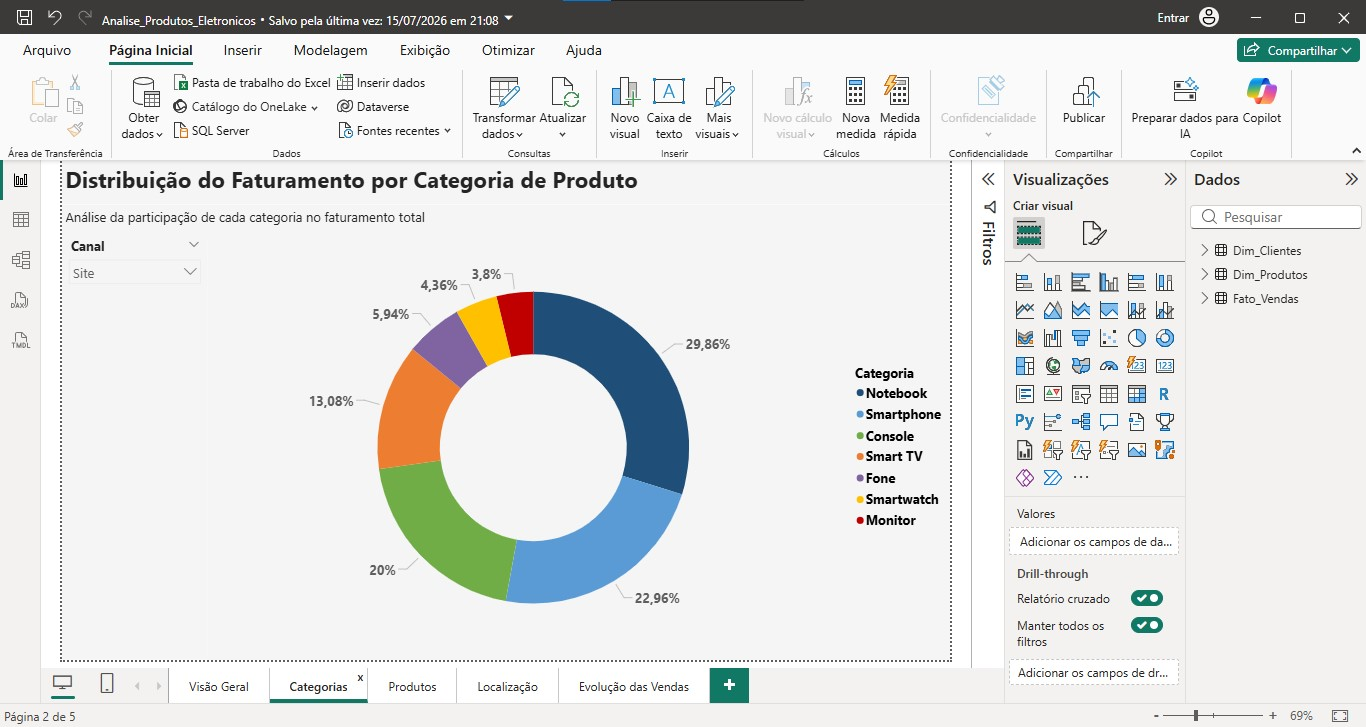

The page's visual inventory and layout, read from the dashboard file:
{"tool":"powerbi","page":{"name":"Categorias","canvas":[1280,720],"ordinal":1},"visuals":[{"type":"donutChart","fields":{"Category":["Dim_Produtos.Categoria"],"Y":["Sum(Fato_Vendas.Valor_Total)"]},"box":[210.3,108,649.4,469],"z":0},{"type":"slicer","fields":{"Values":["Fato_Vendas.Canal_Venda"]},"box":[0,108,210.3,125.3],"z":1000},{"type":"textbox","box":[0,280,210,440],"z":2000},{"type":"textbox","box":[0,0,859.8,64.4],"z":3000},{"type":"textbox","box":[0,64.4,640.2,43.7],"z":4000}]}

Visuals, with their boxes on the page's 1280x720 design canvas (x1, y1, x2, y2). These are canvas units, not pixel positions in the 1366x727 screenshot, which may show the page scaled, cropped or inside an application window:
donutChart - Dim_Produtos.Categoria x Sum(Fato_Vendas.Valor_Total): left=210, top=108, right=860, bottom=577
slicer - Fato_Vendas.Canal_Venda: left=0, top=108, right=210, bottom=233
textbox: left=0, top=280, right=210, bottom=720
textbox: left=0, top=0, right=860, bottom=64
textbox: left=0, top=64, right=640, bottom=108
